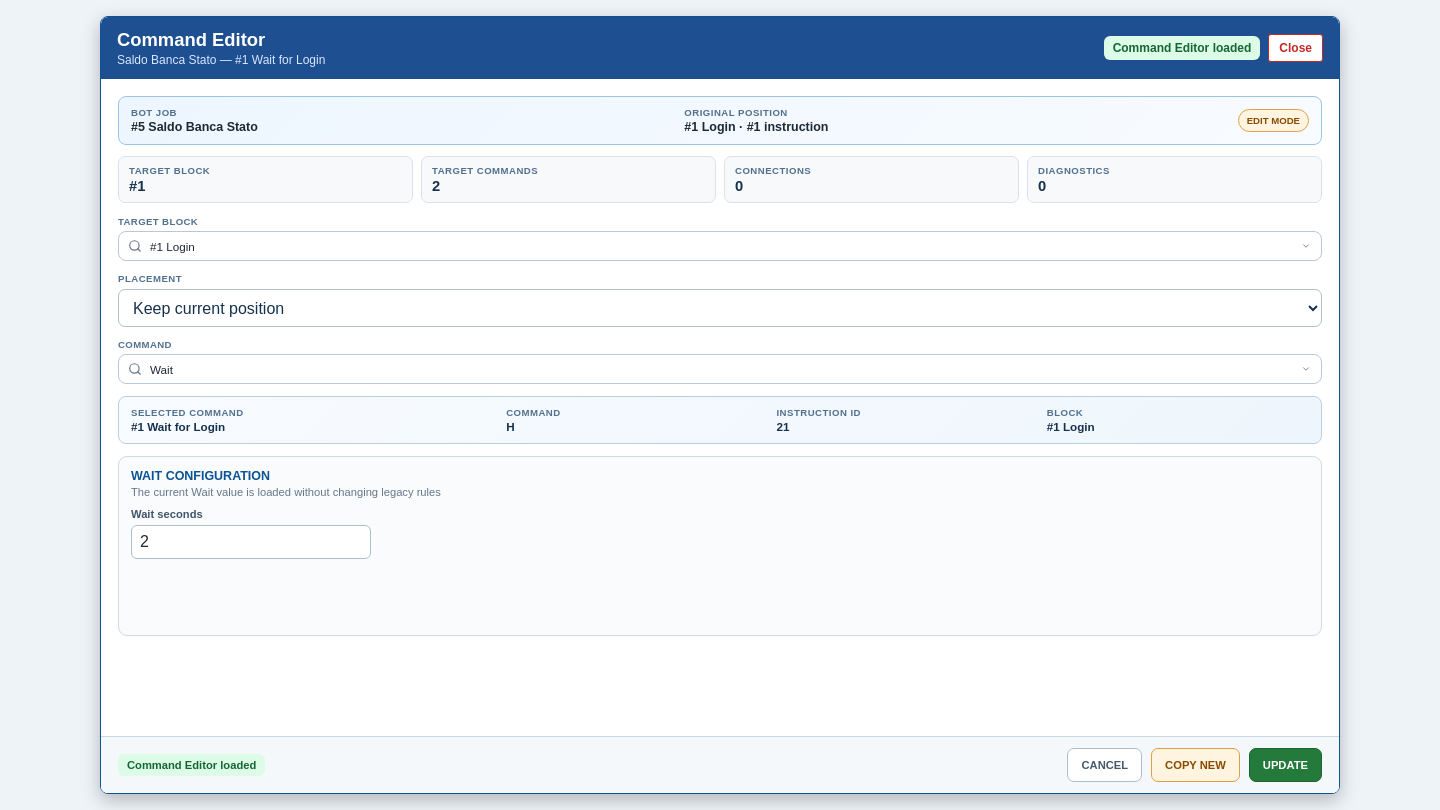
Test: submits the reduced modern UPDATE contract and refreshes after its correlated response
The image size is (1440, 810).
Click the button "UPDATE" at (1285, 765), box [1249,748,1322,782]
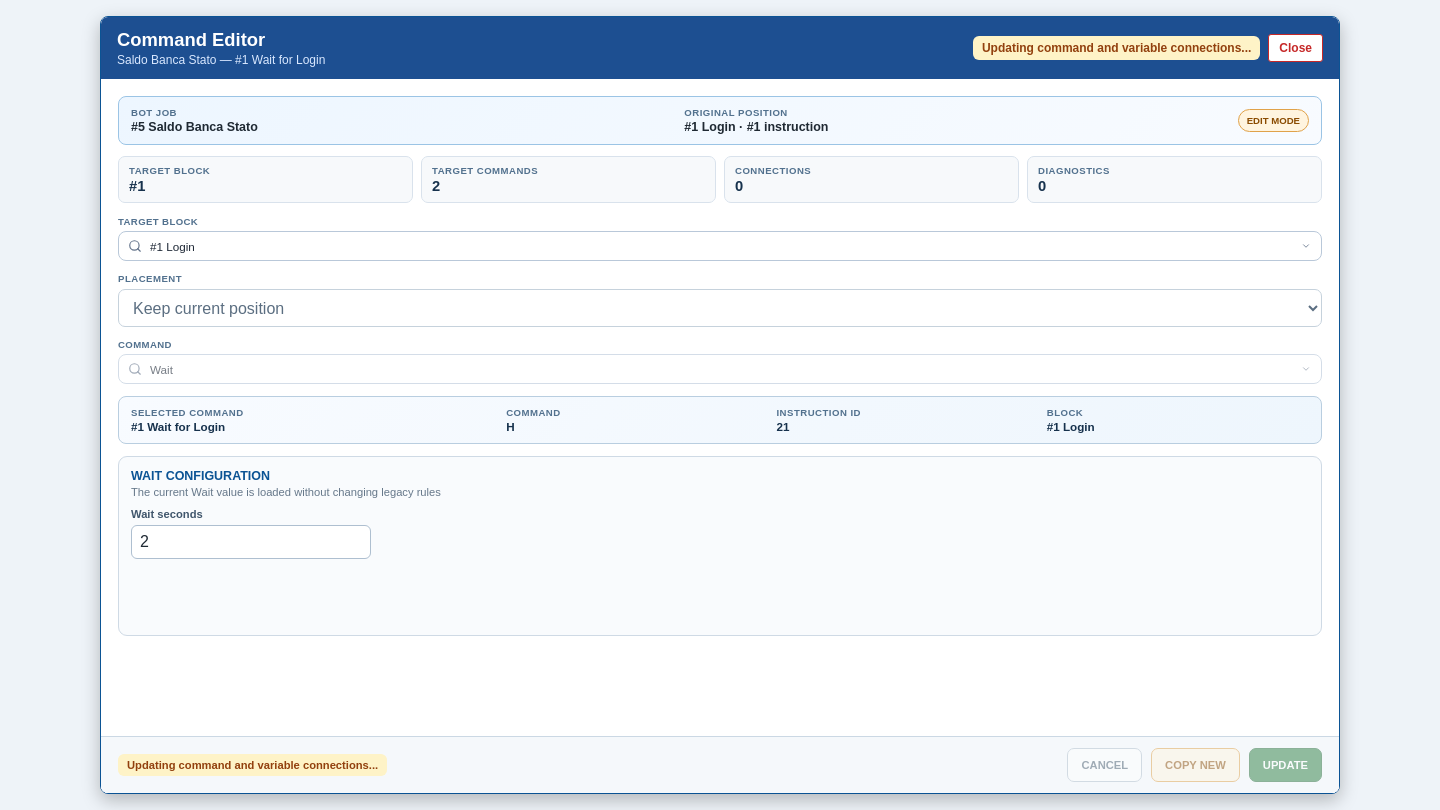
Result: the button "UPDATE" is disabled at [1249,748,1322,782]
